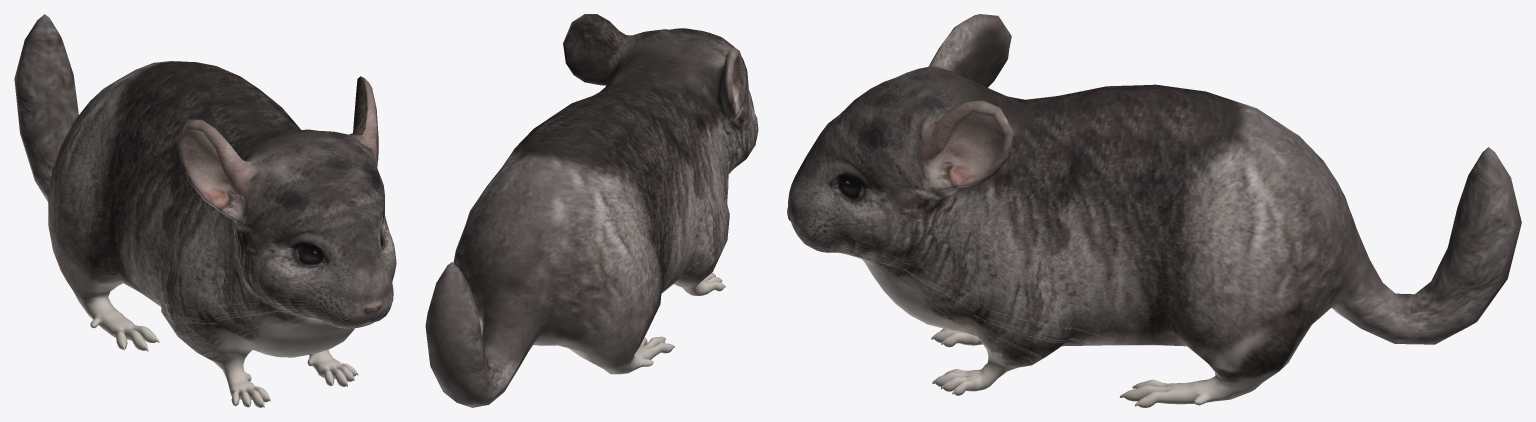
3 views of the same model, side by side, from view 1: azimuth 30°, elevation 25°; view 2: azimuth 150°, elevation 25°; view 3: azimuth 270°, elevation 25° (orthographic). The views are drawn at different scales.
Visible parts, largest first — view 1: chinchilla_0; view 2: chinchilla_0; view 3: chinchilla_0.
Boxes of the visible parts, bbox=[...] form: chinchilla_0: bbox=[14, 14, 396, 407]; chinchilla_0: bbox=[425, 14, 758, 407]; chinchilla_0: bbox=[787, 14, 1521, 407].
Bounding box in the file's own units: 0.2131 × 0.2803 × 0.6051.
Materials: 1 (1 with a texture image).
